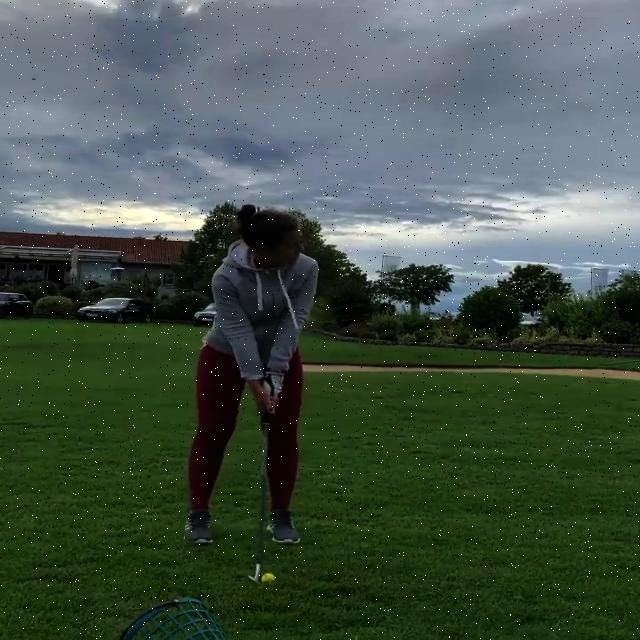ClubHead: (246, 574, 262, 585)
GolfBall: (263, 572, 277, 581)
